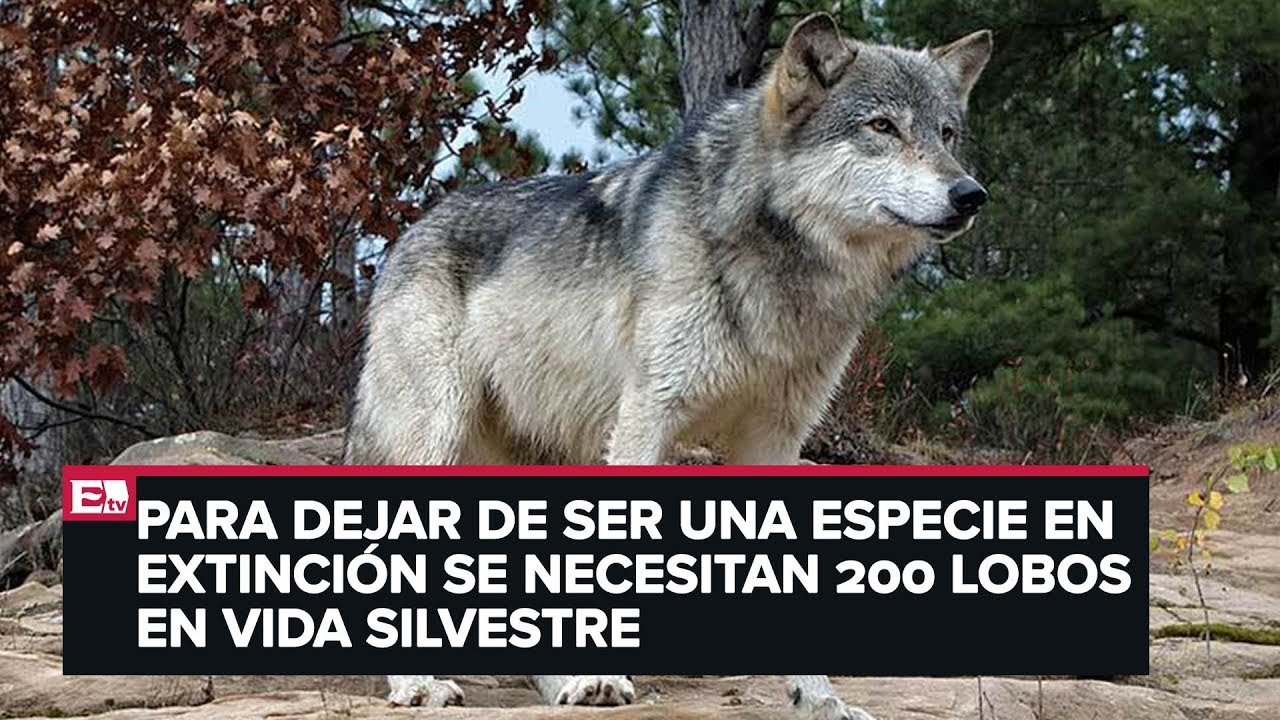Lobo: (324, 9, 1018, 454)
